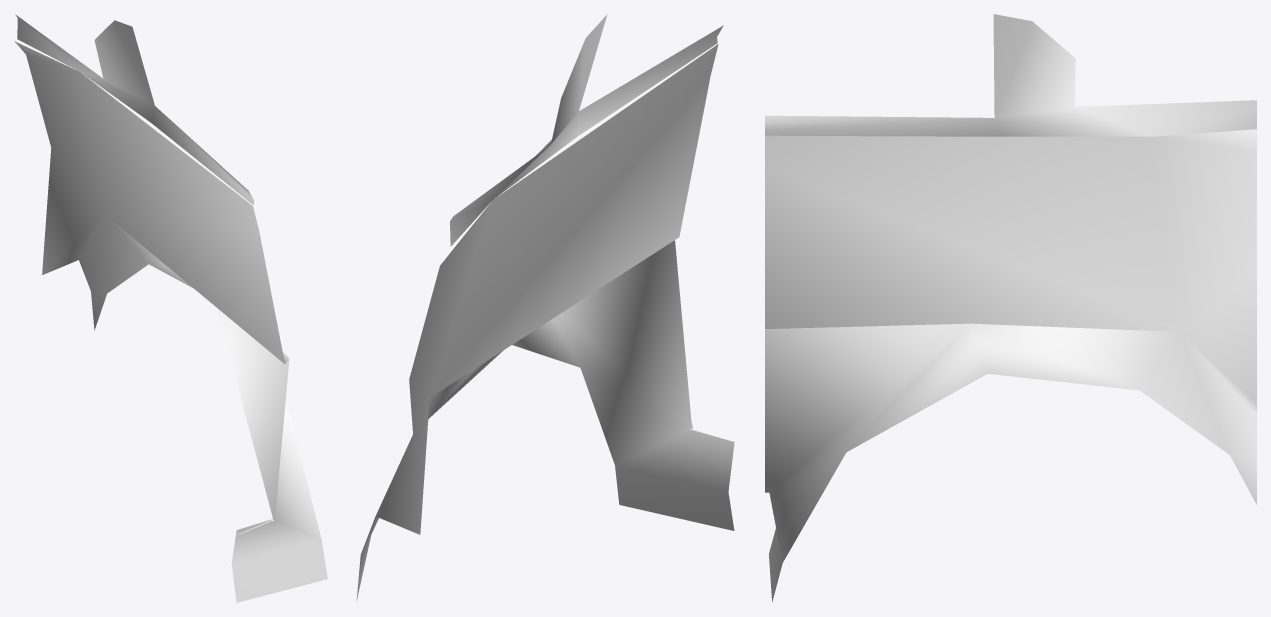
The picture shows the model from 3 angles, left to right: view 1: azimuth 30°, elevation 25°; view 2: azimuth 150°, elevation 25°; view 3: azimuth 270°, elevation 25°; orthographic projection. The views are drawn at different scales.
Size of the model in its own units: 0.3141 by 1.62 by 1.33.
Materials: 1 (1 with a texture image).
